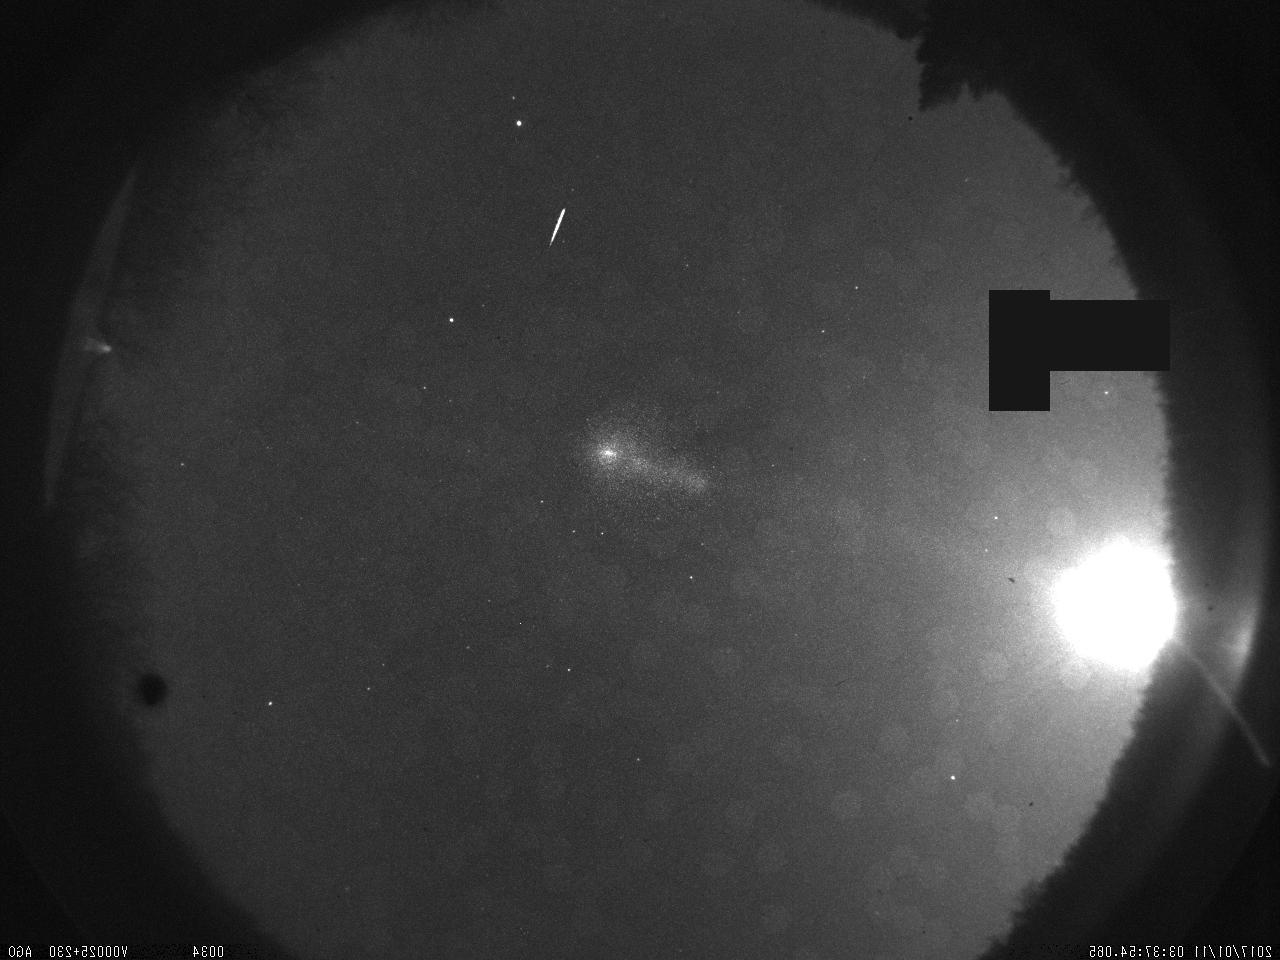meteor: (497, 194, 594, 272)
